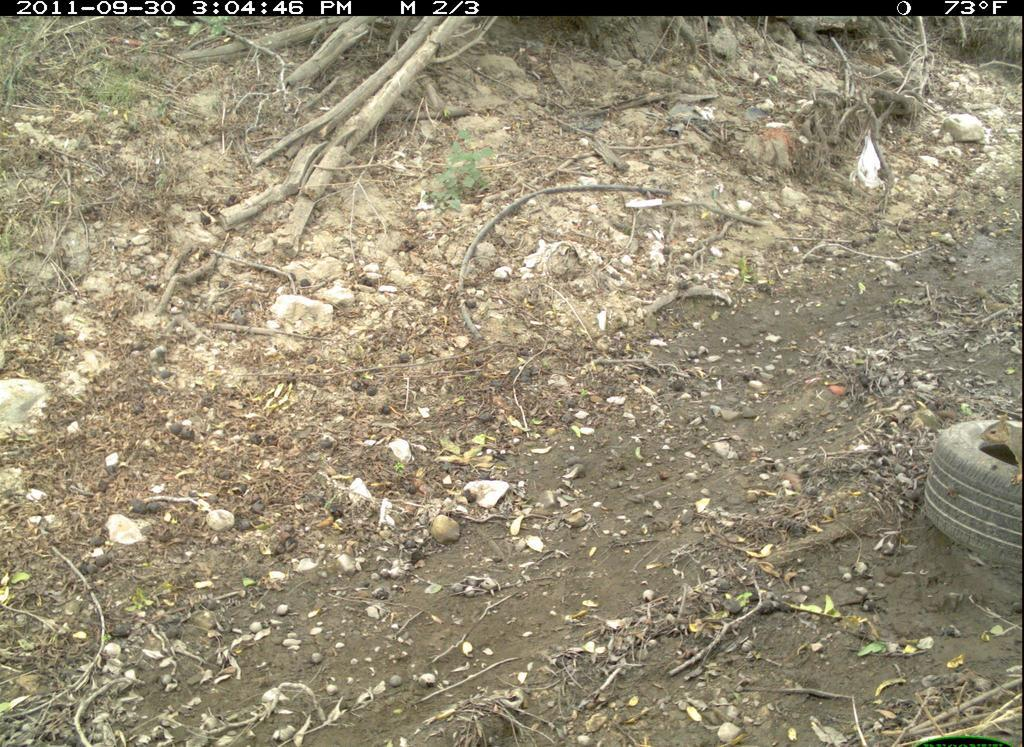squirrel: (978, 407, 1023, 490)
